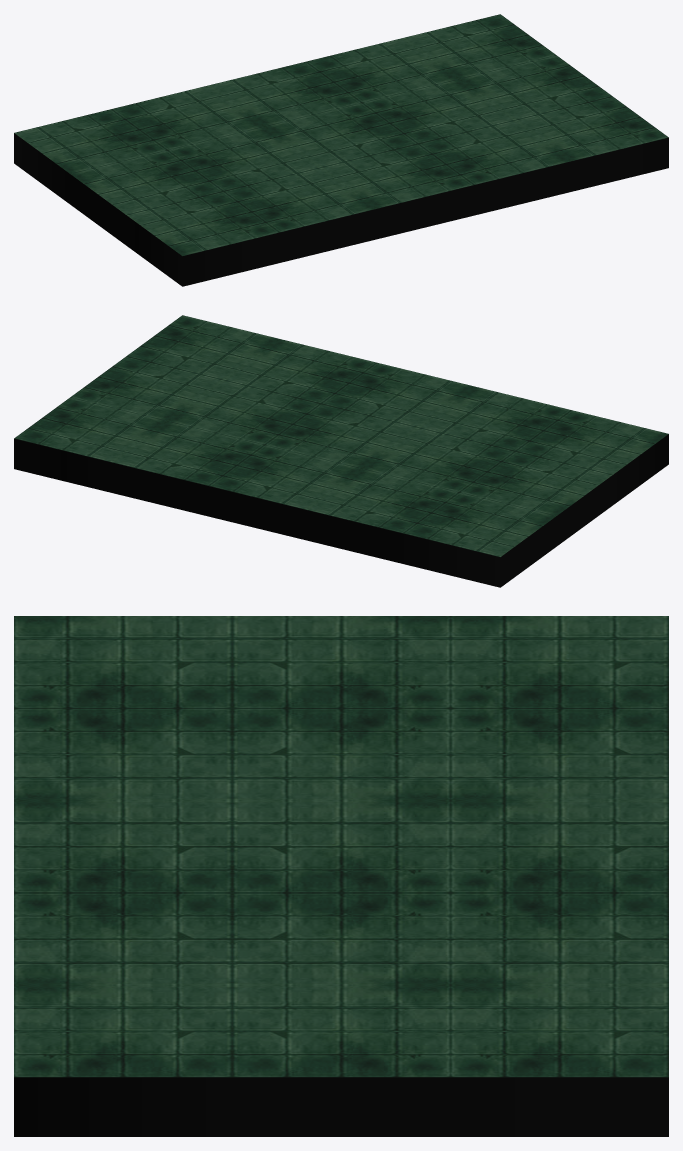
File: Frogames_DP_floor_5x3.FBX
3 renders of one model, top to bottom at view 1: azimuth 30°, elevation 25°; view 2: azimuth 150°, elevation 25°; view 3: azimuth 270°, elevation 25°, orthographic. The views are drawn at different scales.
Visible parts, largest first — view 1: floor_5x3; view 2: floor_5x3; view 3: floor_5x3.
Boxes of the visible parts, x1,y1,x2,y2 form: floor_5x3: [14, 14, 668, 286]; floor_5x3: [14, 315, 668, 587]; floor_5x3: [14, 616, 668, 1136].
Bounding box in the file's own units: 50 × 30 × 3.
